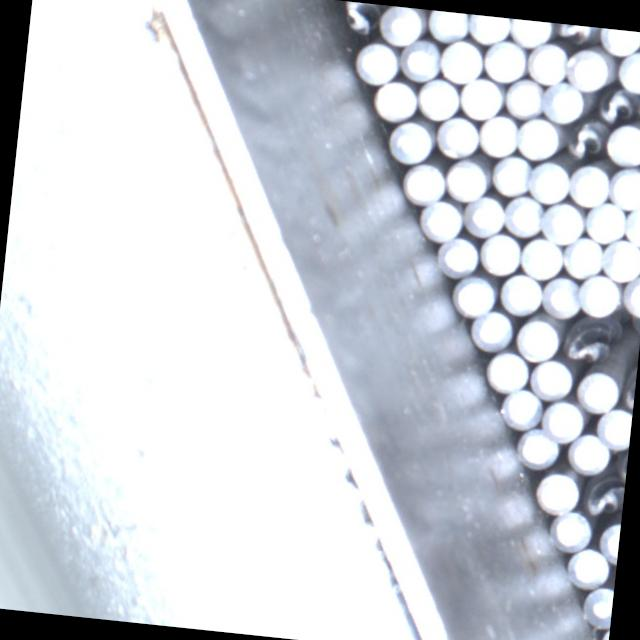tool: (374, 4, 426, 52), (565, 44, 615, 92), (437, 34, 484, 82), (352, 37, 400, 84), (572, 367, 619, 415), (544, 508, 594, 553), (525, 157, 572, 204), (566, 160, 612, 208), (442, 156, 490, 202), (388, 115, 434, 163), (534, 466, 580, 514), (482, 36, 528, 83), (518, 233, 564, 280), (456, 74, 503, 120), (540, 197, 586, 244), (523, 39, 569, 86), (576, 271, 622, 318), (433, 112, 480, 158), (583, 198, 628, 246), (516, 114, 562, 160), (514, 314, 560, 360), (372, 74, 418, 120), (415, 74, 460, 121), (476, 110, 520, 158), (560, 234, 605, 280), (477, 230, 522, 276), (540, 78, 586, 123), (485, 347, 532, 391), (420, 194, 464, 241), (591, 402, 633, 451), (501, 192, 545, 238), (488, 151, 532, 197), (530, 354, 574, 400), (450, 273, 496, 317), (402, 159, 446, 205), (565, 544, 611, 588), (564, 432, 612, 474), (500, 75, 544, 120), (470, 307, 515, 351), (462, 194, 506, 238), (399, 38, 442, 83), (600, 235, 640, 283), (501, 386, 545, 429), (541, 396, 585, 439), (516, 426, 561, 468), (540, 273, 582, 318), (498, 272, 542, 314), (436, 233, 479, 275), (604, 119, 640, 166), (578, 585, 614, 629), (607, 164, 640, 211), (424, 10, 468, 42), (590, 518, 620, 562), (466, 14, 509, 44), (508, 18, 551, 48), (596, 28, 640, 56), (617, 48, 640, 93), (620, 271, 640, 315), (623, 201, 640, 246)
tool_b: (561, 315, 620, 367), (564, 115, 610, 163), (581, 474, 625, 520), (594, 86, 639, 128), (336, 1, 380, 36), (553, 23, 599, 46), (633, 89, 640, 132)
